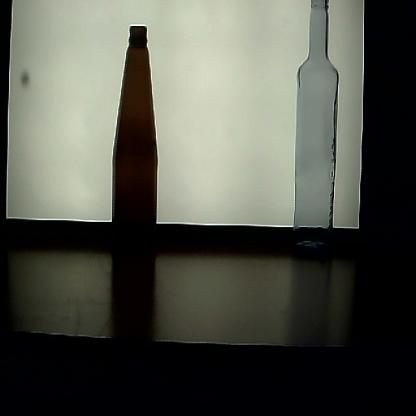Can: (109, 20, 165, 258), (291, 2, 339, 278)
